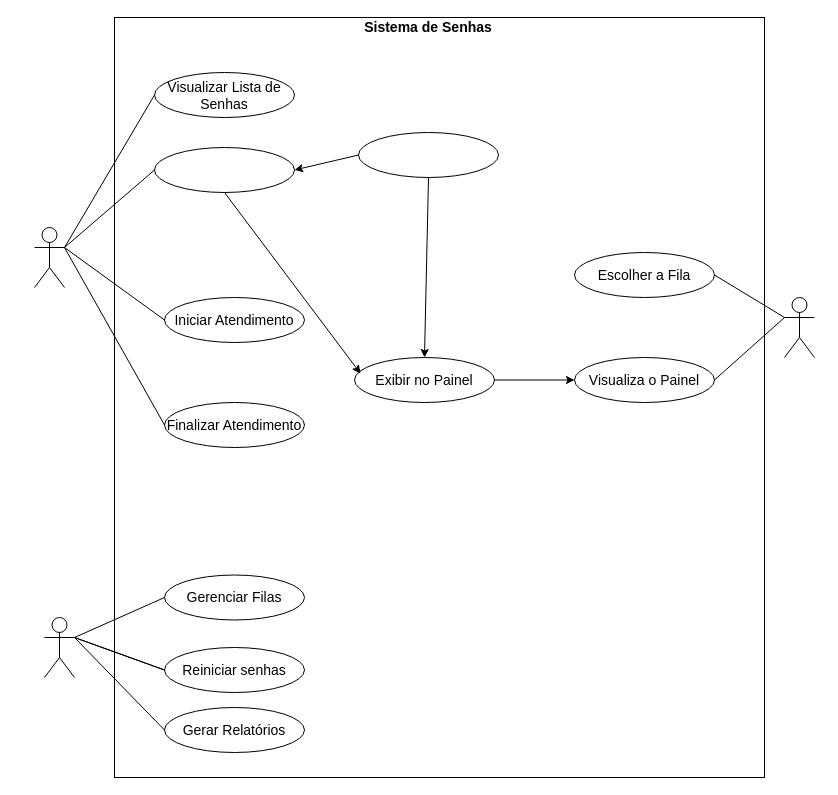
This 838x795 diagram has some shape labels left out. The centre of each missing label's shape, as x and y in pixels:
"Atendente" goes at [49,257].
"Chamar Senha" goes at [224,169].
"Cliente" goes at [799,327].
"Gestor" goes at [59,647].
"Rechamar a Senha" goes at [428,155].
